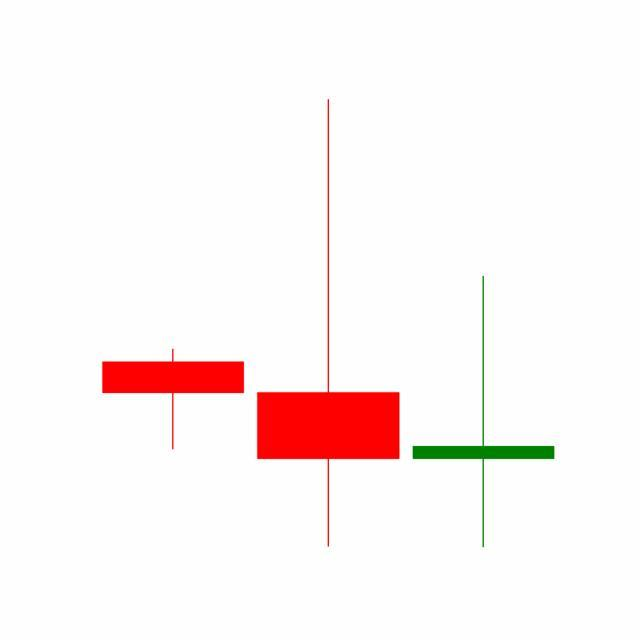Spinning Top: (406, 274, 562, 552)
